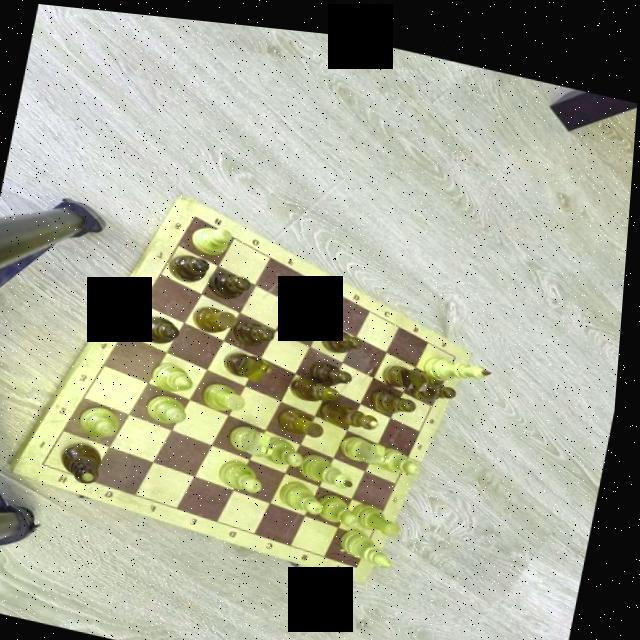chess-table-corners: (42, 454, 55, 468), (189, 206, 203, 216), (358, 552, 370, 562), (452, 342, 463, 351)
